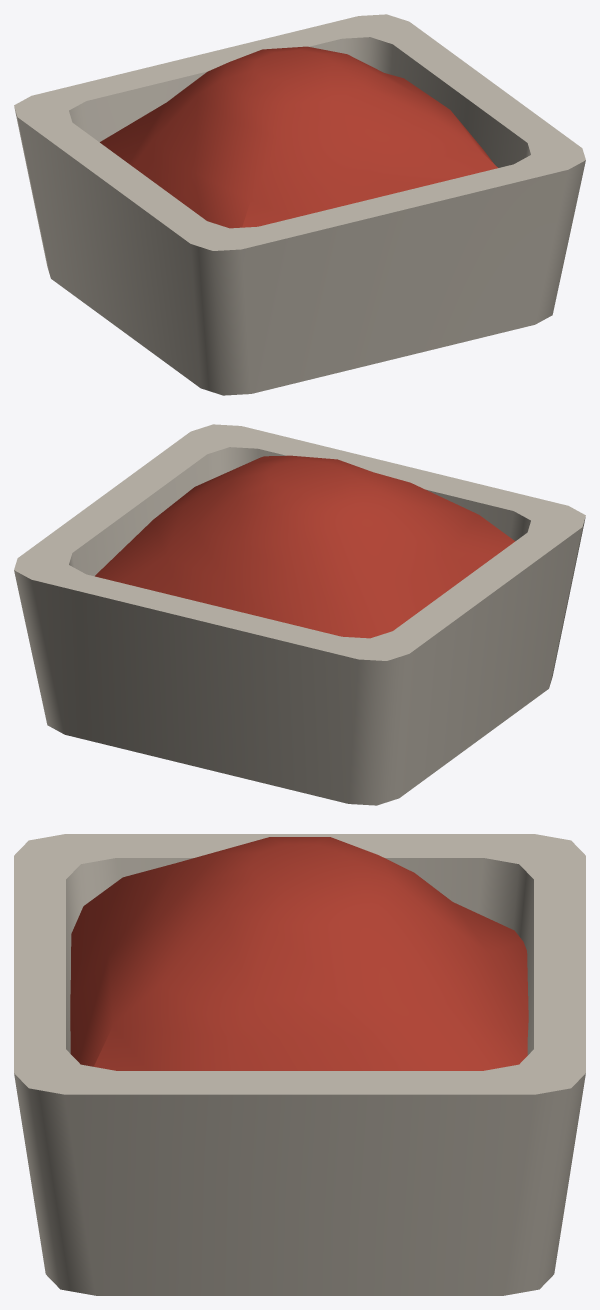
The model's file is KetchupSauce_01.fbx.
3 views of the same model, one above another, from view 1: azimuth 30°, elevation 25°; view 2: azimuth 150°, elevation 25°; view 3: azimuth 270°, elevation 25° (orthographic). The views are drawn at different scales.
Visible parts, largest first — view 1: KetchupSauce_01; view 2: KetchupSauce_01; view 3: KetchupSauce_01.
Part boxes in pixels (<box>): KetchupSauce_01: <box>14,14,585,395</box>; KetchupSauce_01: <box>14,424,585,805</box>; KetchupSauce_01: <box>14,834,585,1295</box>.
Size of the model in its own units: 0.082 by 0.0453 by 0.0761.
